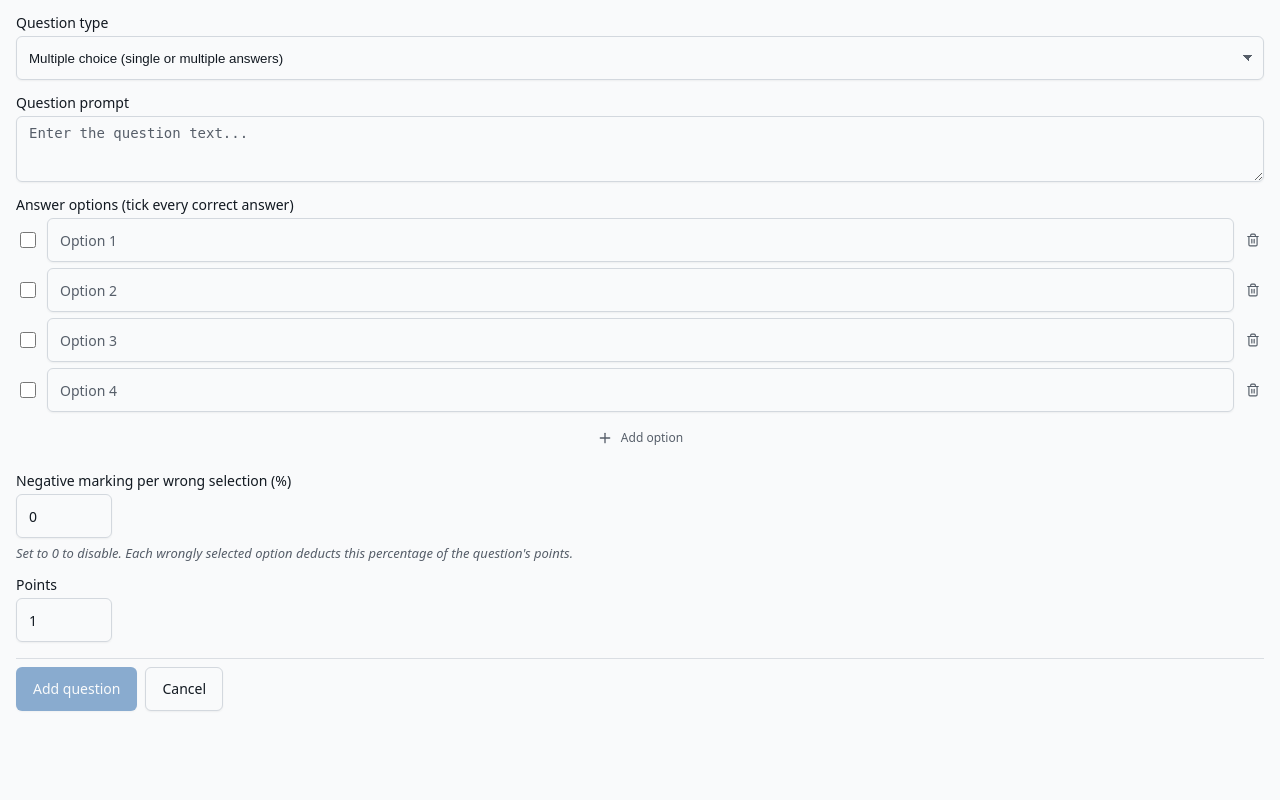
Test: QuestionForm — multiple choice › lets a ticked answer be unticked
Type "Which are prime?" into the text box labelled "Question prompt" at coordinates (640, 149), box [16,116,1264,182]
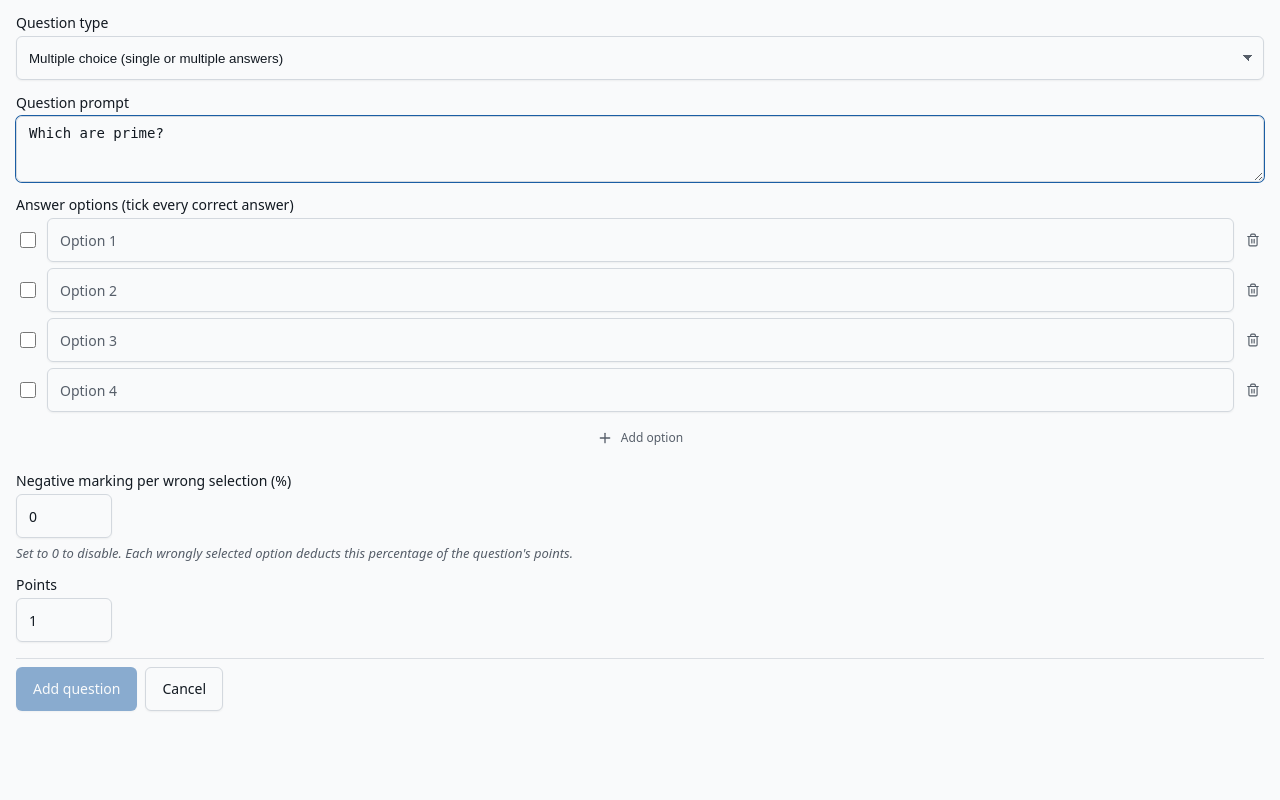
Type "2" into the field with placeholder "Option 1" at coordinates (640, 240), box [47,218,1234,262]
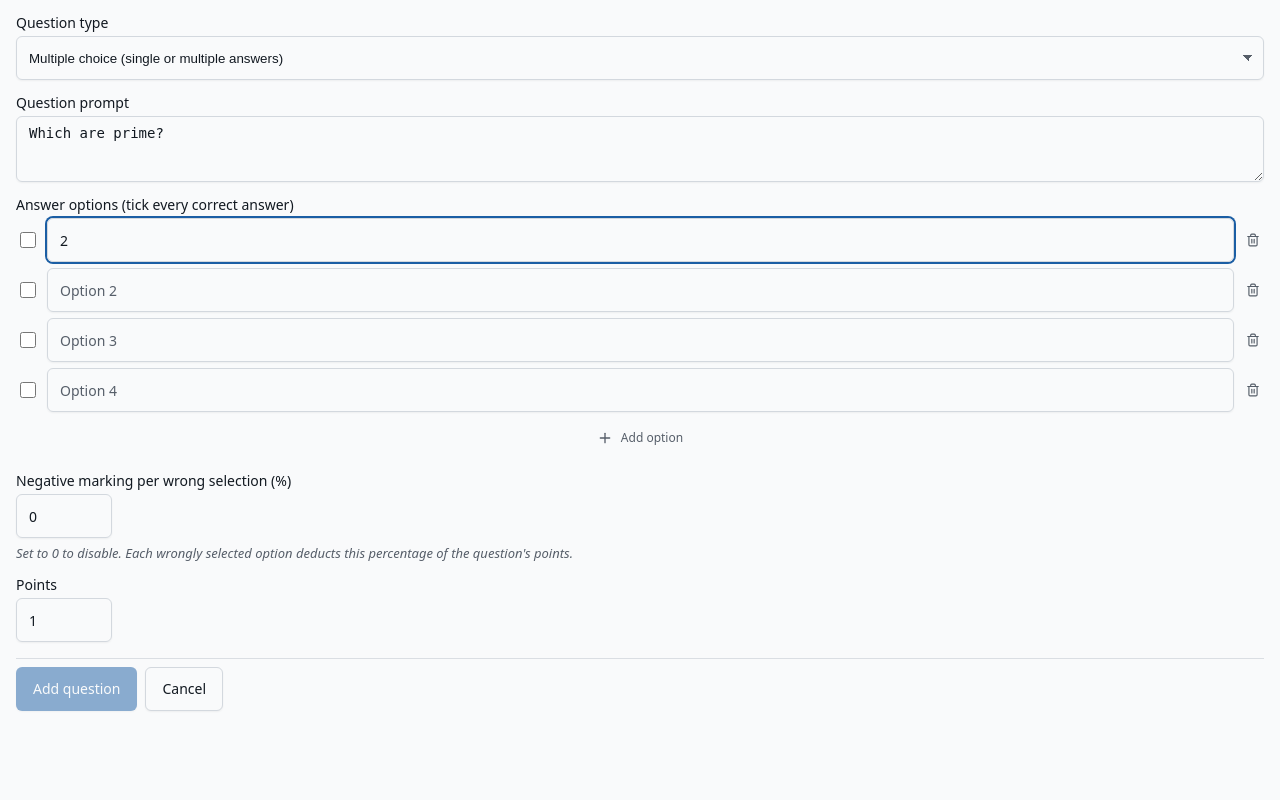
Type "4" into the field with placeholder "Option 2" at coordinates (640, 290), box [47,268,1234,312]
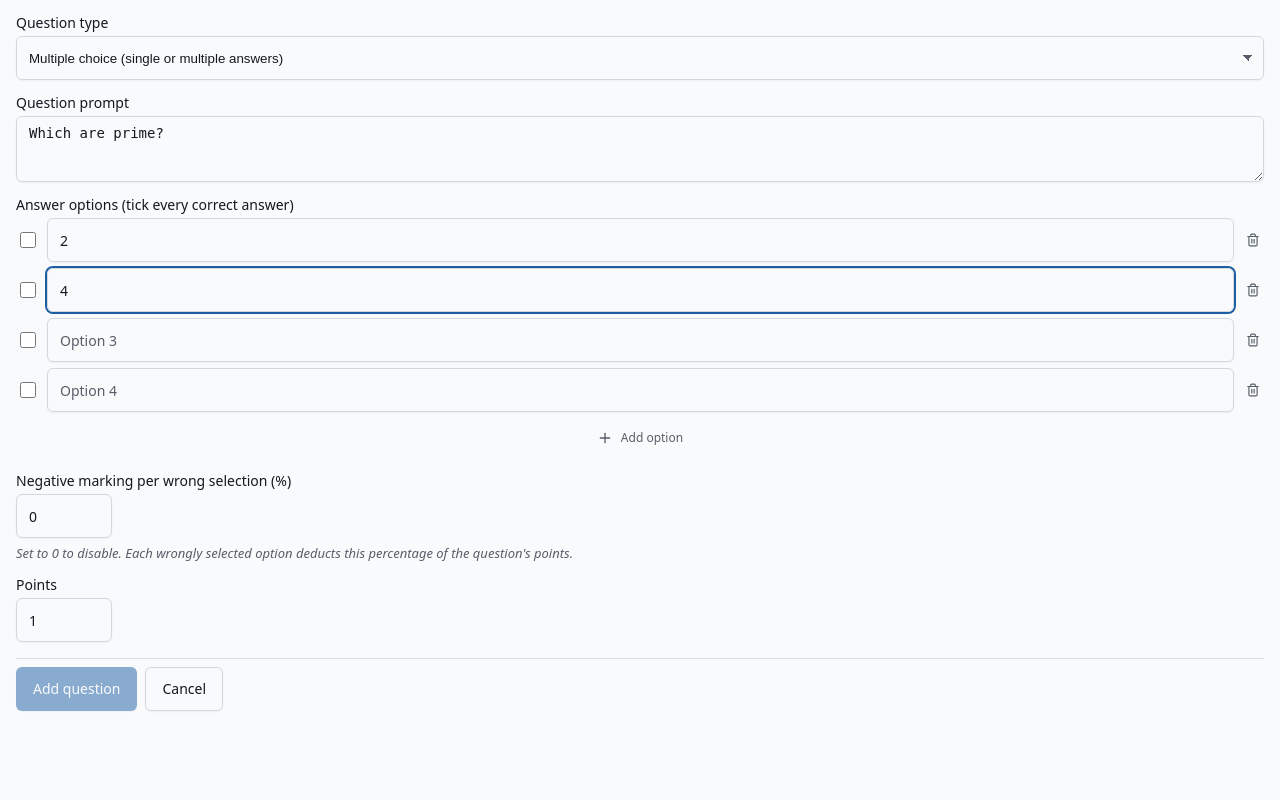
Click the 1st checkbox named "Mark as correct" at coordinates (28, 240), box [20,232,36,248]
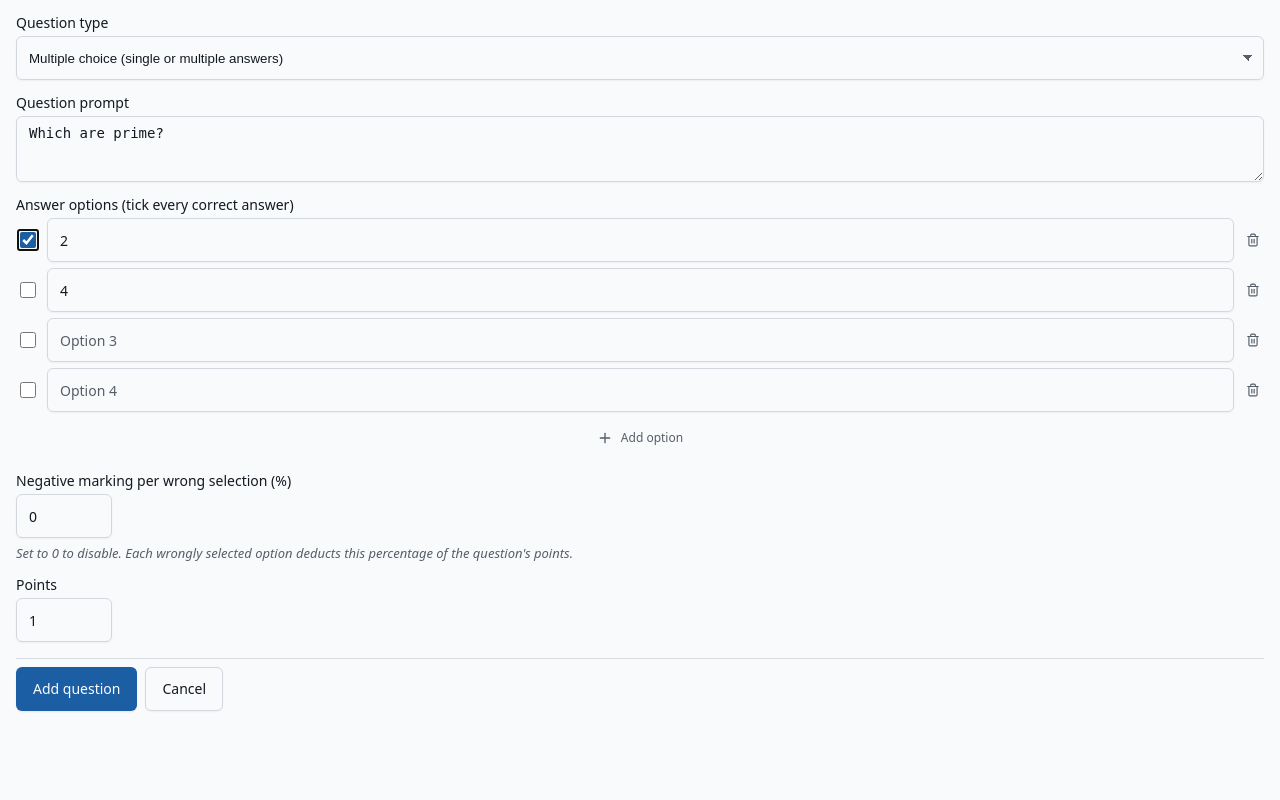
Click the 1st checkbox named "Mark as correct" at coordinates (28, 240), box [20,232,36,248]
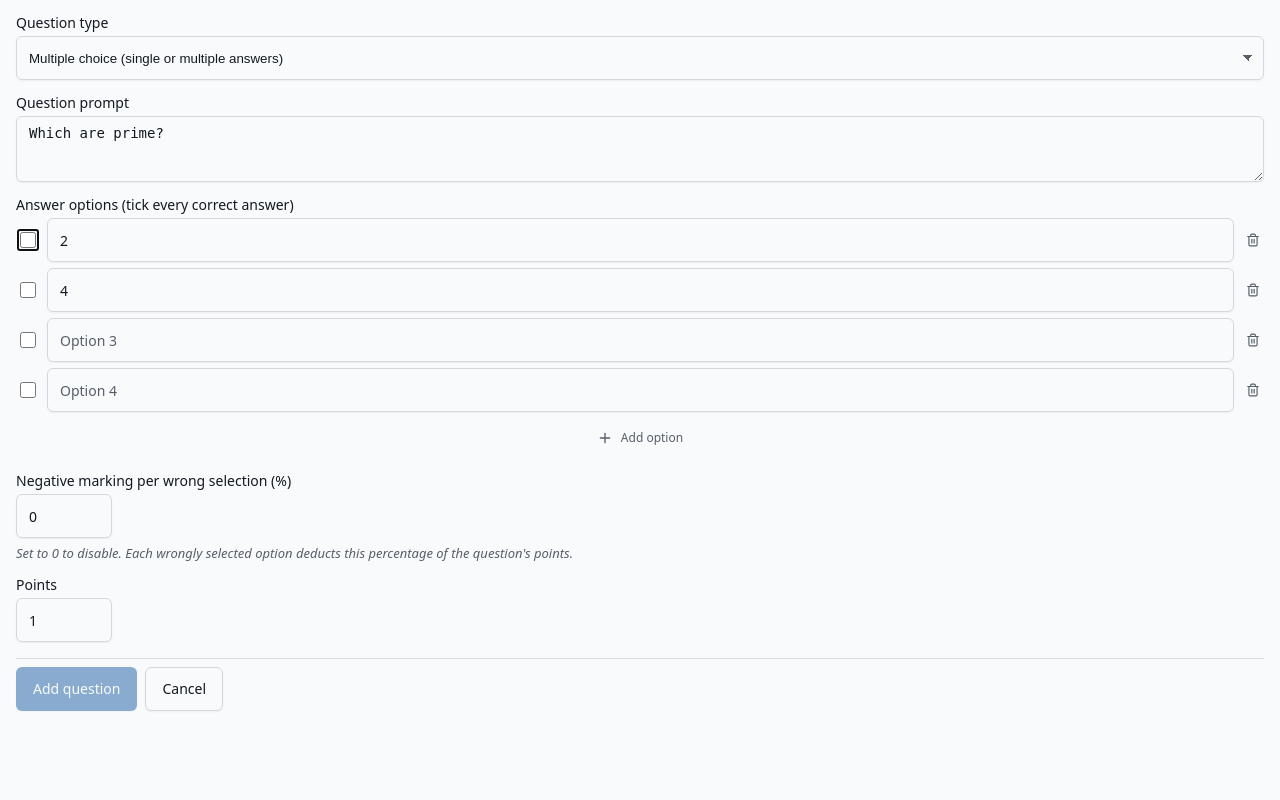
Result: the 1st checkbox named "Mark as correct" is not checked at [20,232,36,248]
Result: the button "Add question" is disabled at [16,667,138,711]
